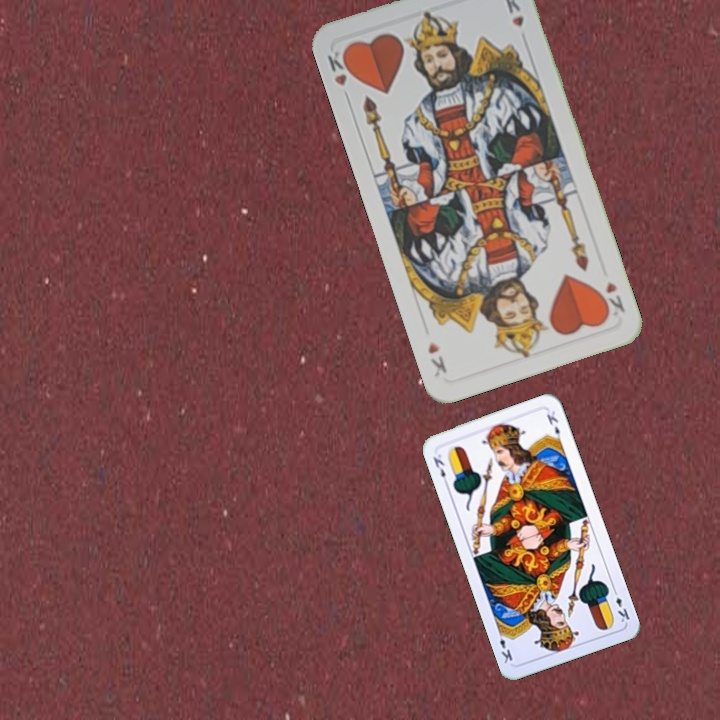EK: (609, 585, 632, 625), (429, 450, 451, 488)
HK: (323, 45, 357, 104), (602, 277, 628, 319)
